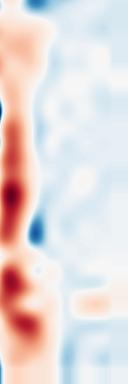filament: (0, 110, 49, 341)
